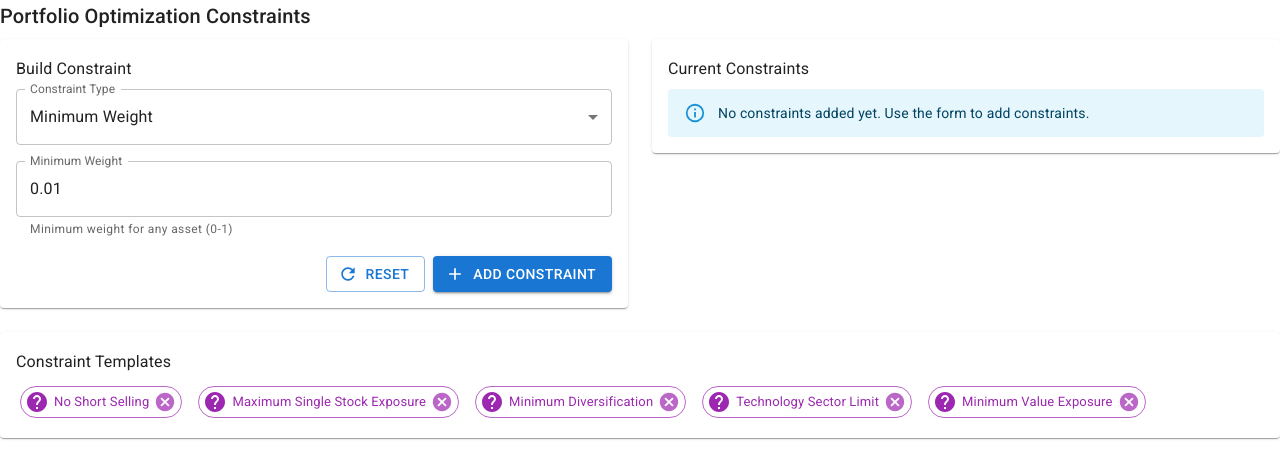
Test: OptimizationConstraintBuilder › allows applying a constraint template
The width and height of the screenshot is (1280, 457).
Expected: the text "No Short Selling" is shown, [54,394,149,409]
Click on the template to apply it
Click the button "No Short Selling".
click(101, 402)  # box [20,386,182,418]
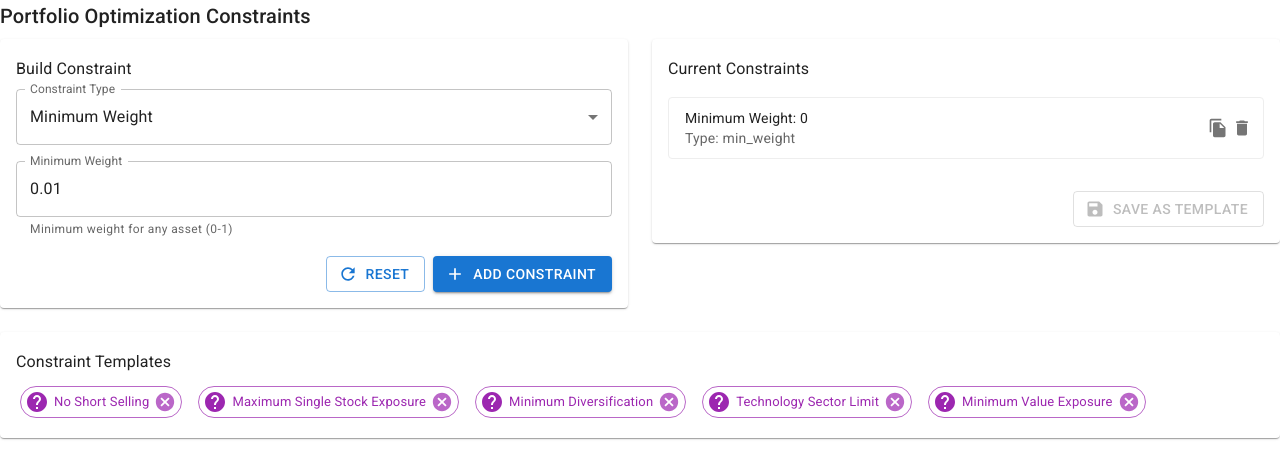
Result: the text "Minimum Weight: 0" is shown at [685,110,808,126]
